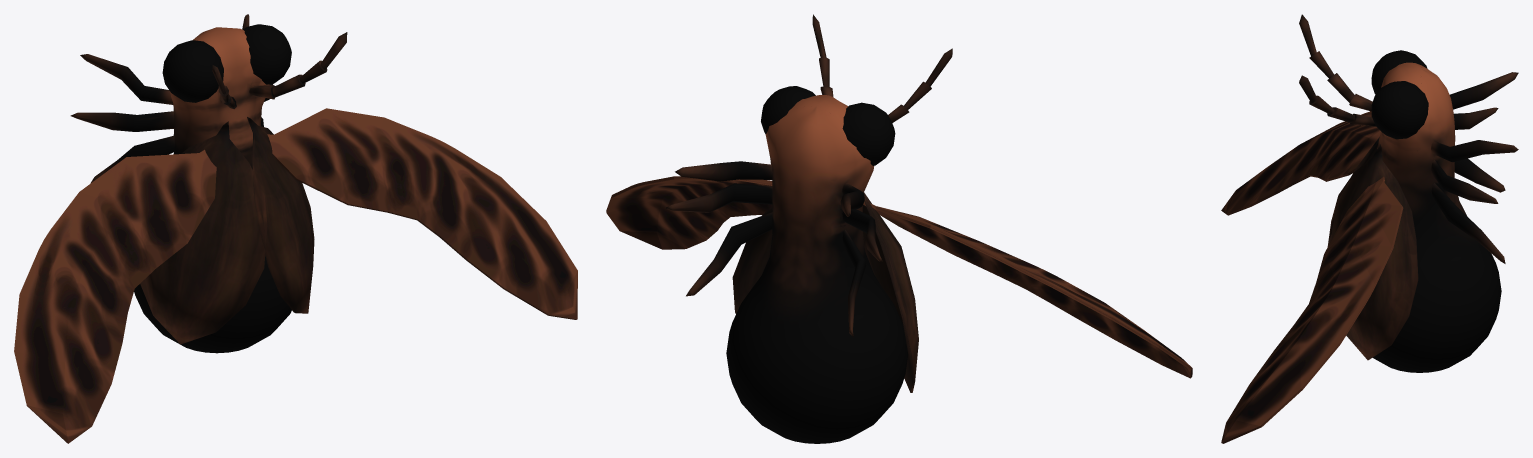
File: Firefly_Fred.obj
3 views of the same model, side by side, from view 1: azimuth 30°, elevation 25°; view 2: azimuth 150°, elevation 25°; view 3: azimuth 270°, elevation 25° (orthographic). The views are drawn at different scales.
Visible parts, largest first — view 1: Firefly_Wings, Firefly, Firefly_Shell__L, Firefly_Shell__R; view 2: Firefly, Firefly_Wings, Firefly_Shell__L, Firefly_Shell__R; view 3: Firefly, Firefly_Wings, Firefly_Shell__R, Firefly_Shell__L.
Part boxes in pixels (bbox=[...]): Firefly_Wings: bbox=[14, 108, 577, 443]; Firefly: bbox=[70, 14, 347, 353]; Firefly_Shell__L: bbox=[140, 121, 267, 344]; Firefly_Shell__R: bbox=[247, 117, 314, 313]; Firefly: bbox=[665, 14, 952, 443]; Firefly_Wings: bbox=[606, 176, 1192, 378]; Firefly_Shell__L: bbox=[862, 192, 918, 392]; Firefly_Shell__R: bbox=[732, 206, 865, 313]; Firefly: bbox=[1299, 14, 1518, 372]; Firefly_Wings: bbox=[1221, 111, 1403, 443]; Firefly_Shell__R: bbox=[1327, 144, 1418, 360]; Firefly_Shell__L: bbox=[1329, 136, 1379, 240].
Bounding box in the file's own units: 7.27 × 4.32 × 3.63.
2 materials, 2 textured.
